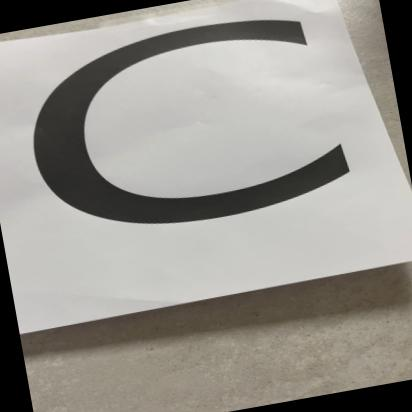seat: (0, 0, 406, 325)
